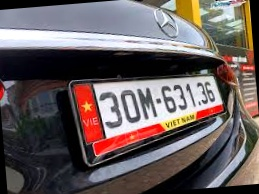Bien-so: (93, 73, 227, 138)
